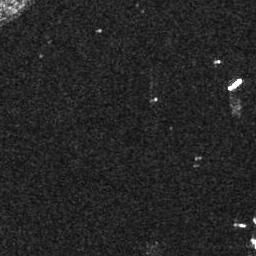ship: (227, 76, 242, 91), (234, 221, 247, 228)
